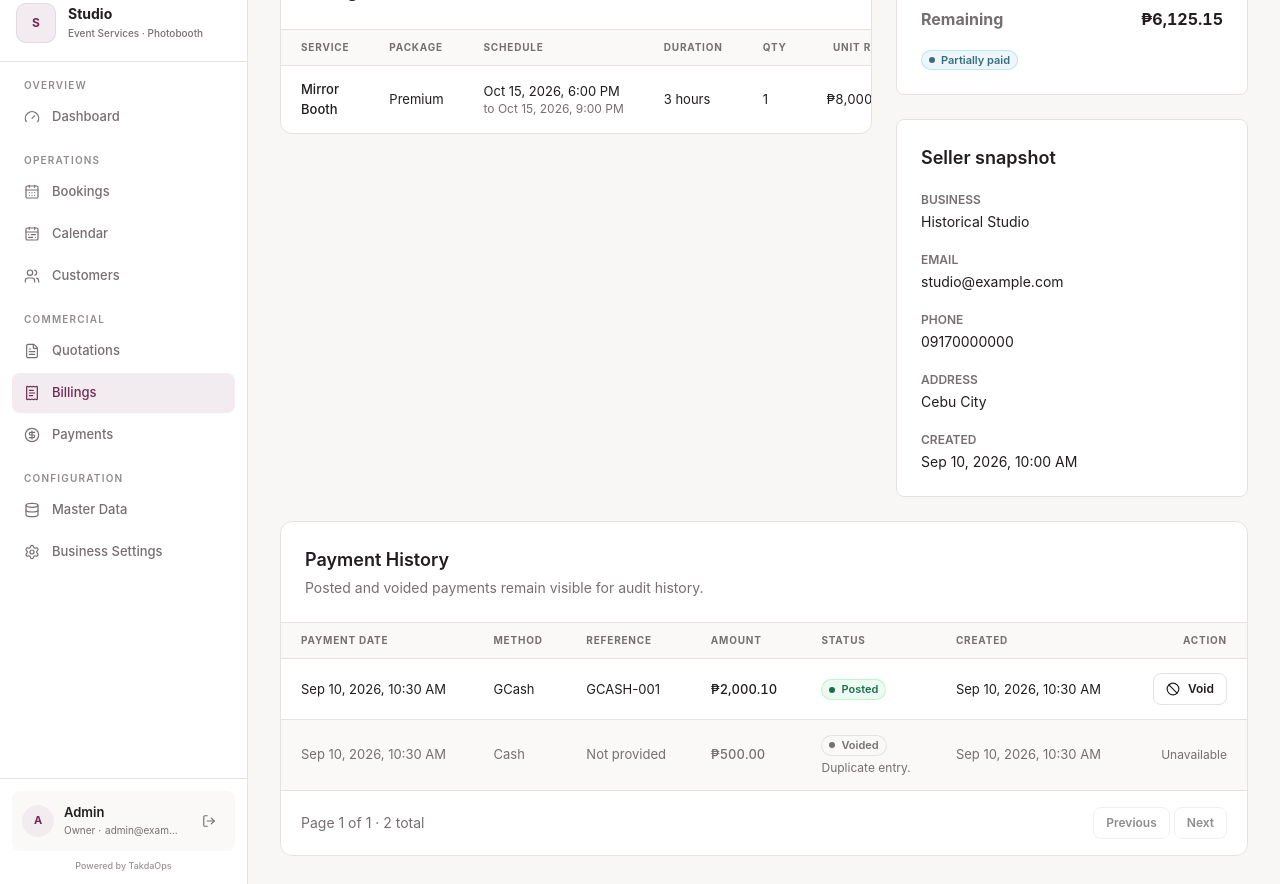
Scenario: Void dialog requires a reason and refreshes the derived balance
The image size is (1280, 884).
(page scrolled)
Click the button "Void" at (1190, 689), box [1153,673,1227,705]
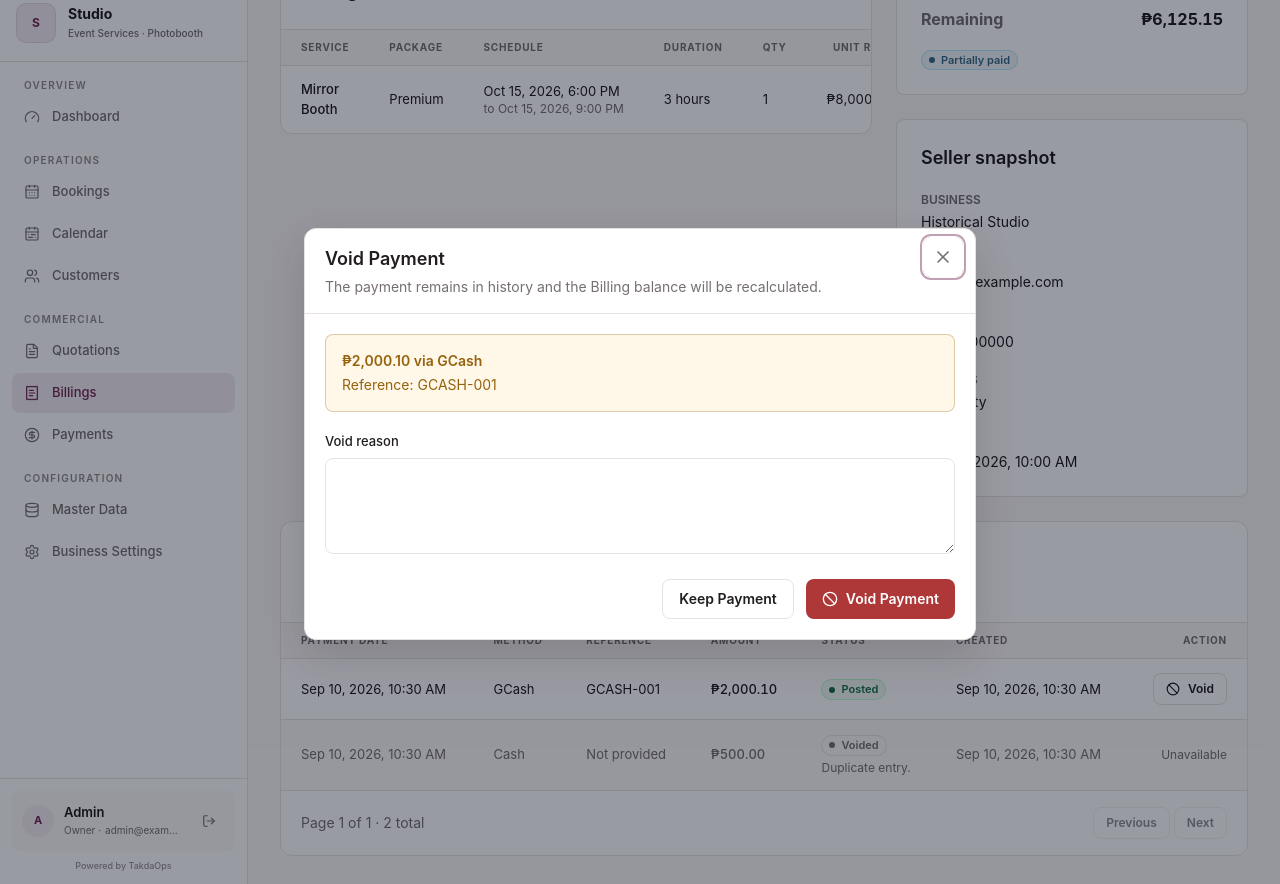
Click the button "Void Payment" at (880, 599), box [806,579,955,619]
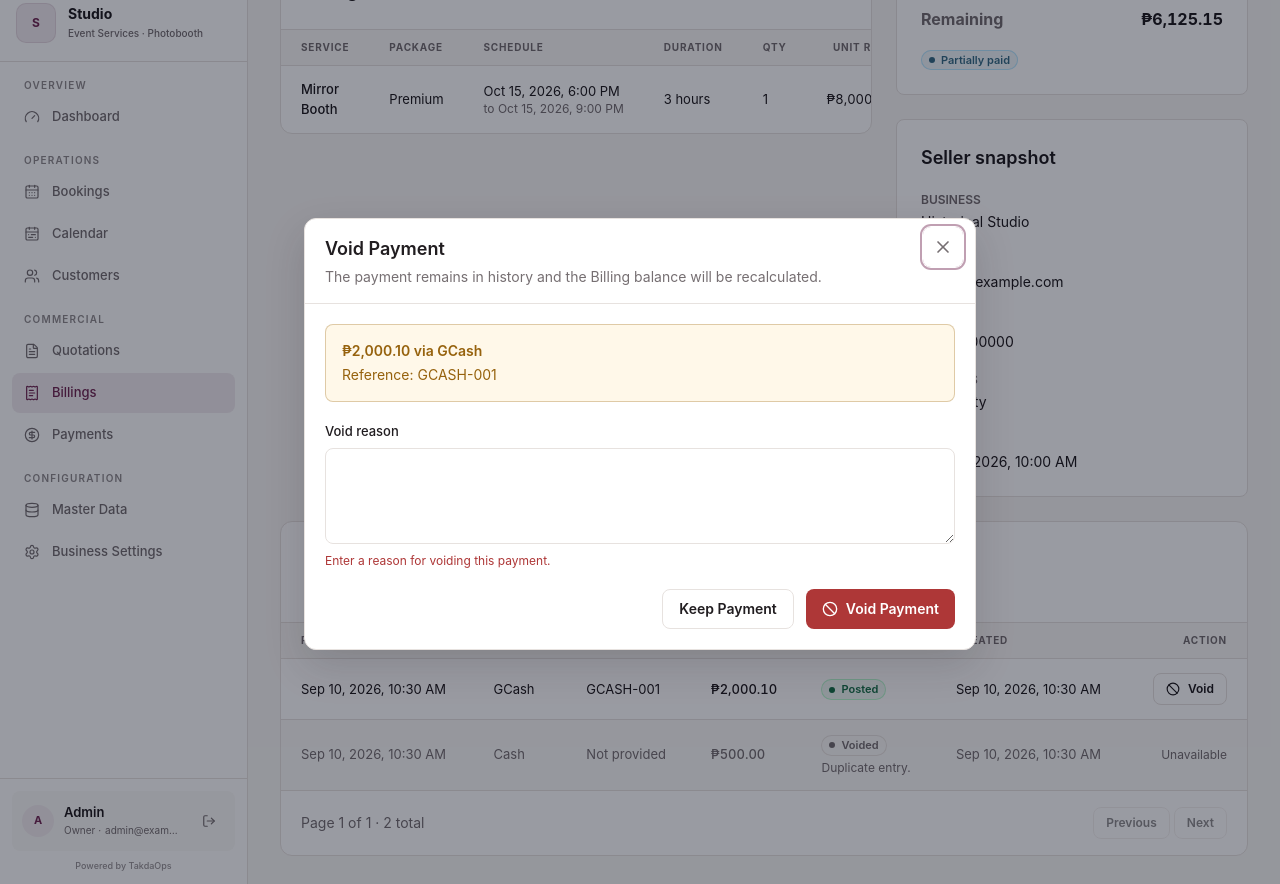
Now the text "Enter a reason for voiding this payment." is shown, box [325,553,550,568]
Type "Bank reversal." into the text box labelled "Void reason" at (640, 496), box [325,448,955,544]
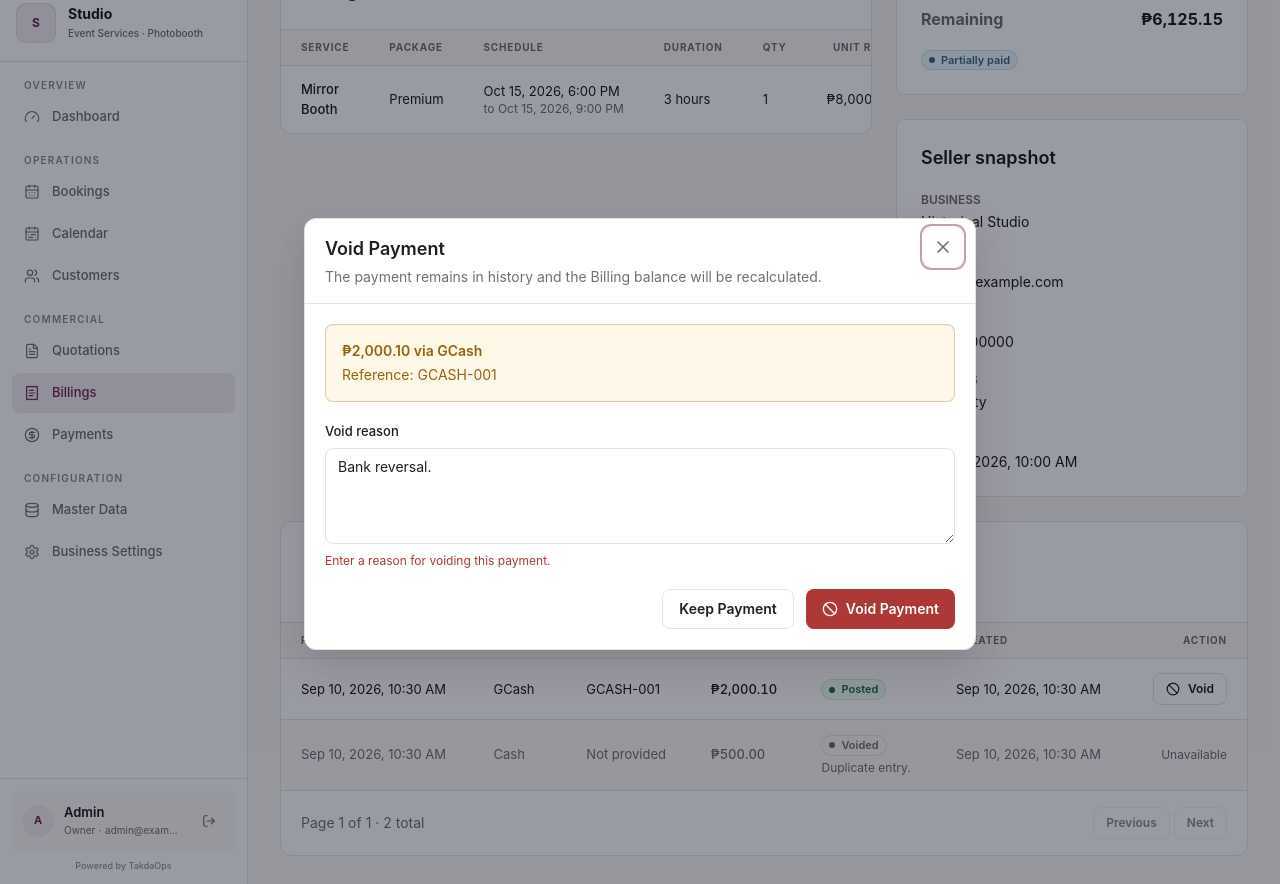
Click the button "Void Payment" at (880, 609), box [806,589,955,629]
(page scrolled)
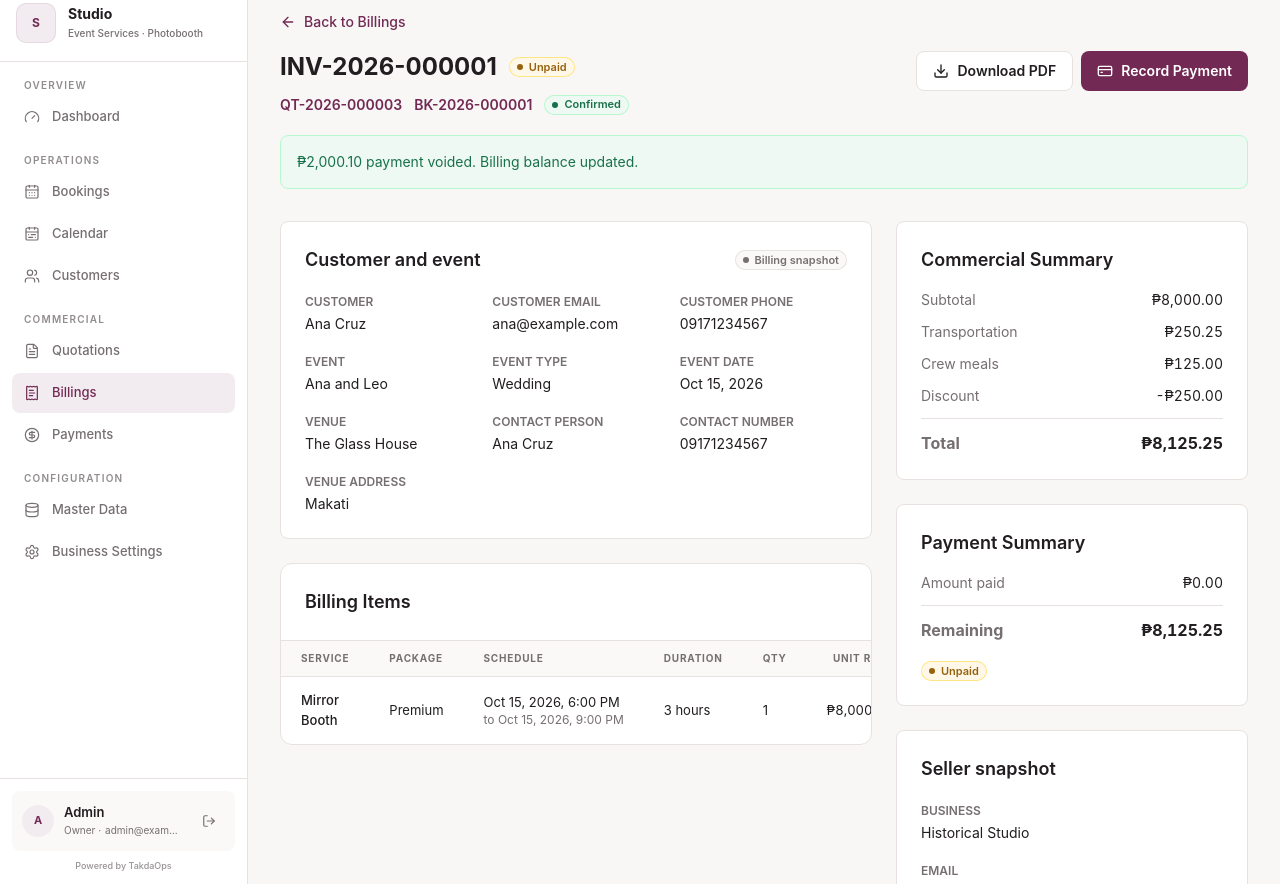
Now the text "₱2,000.10 payment voided. Billing balance updated." is shown, box [280,135,1248,189]
Now the text "Unpaid" next to "INV-2026-000001" is shown, box [529,60,567,74]
